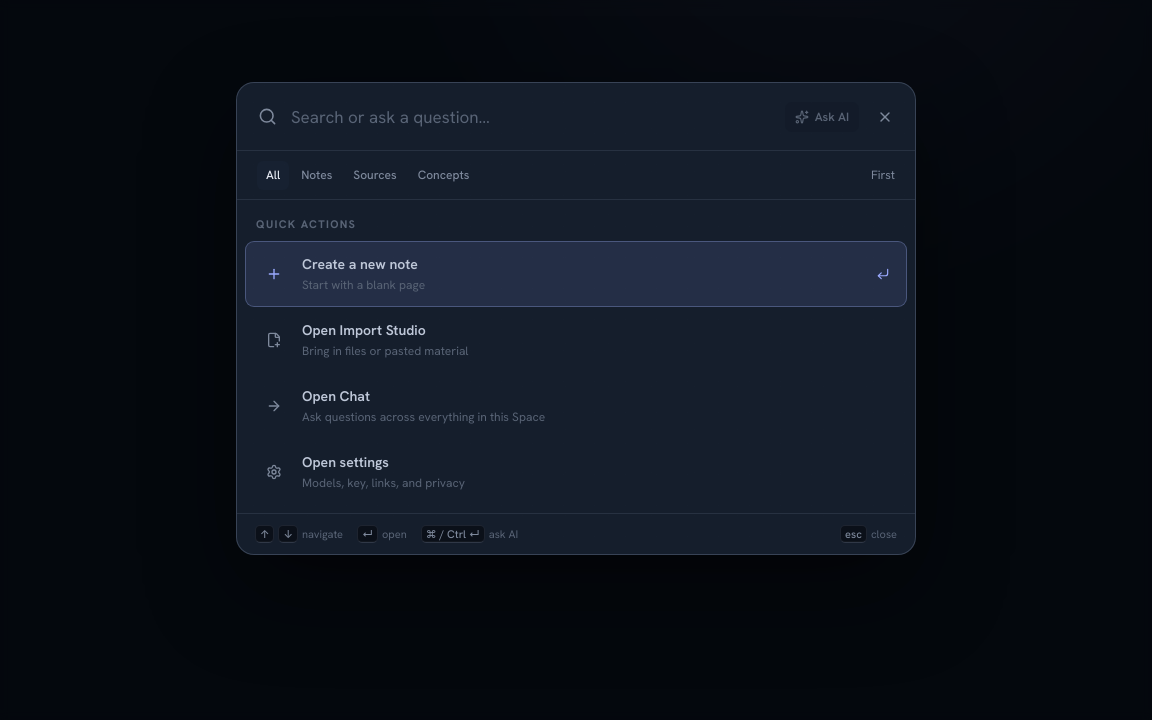
CommandPalette search › cancels when the Space changes and renders a current answer without saving Chat
Step 1. Type "quartz" into the dropdown → (531, 116), box [289, 104, 773, 128]
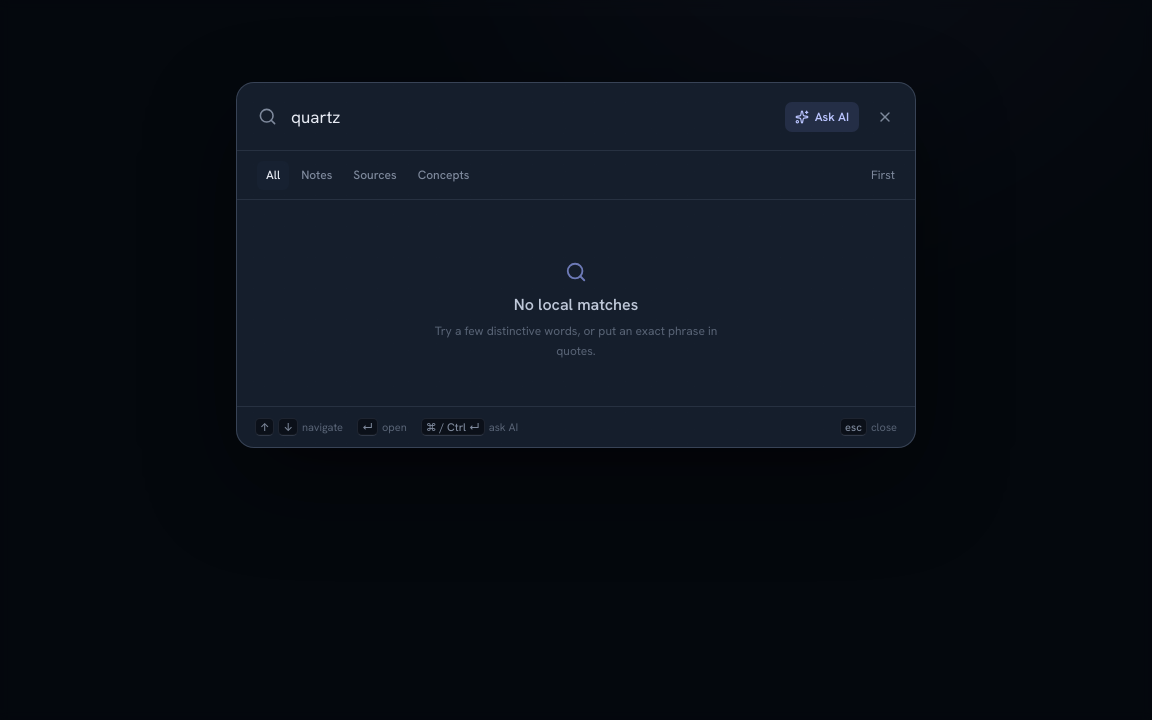
Step 2. Press Enter in the dropdown, box [289, 104, 773, 128]
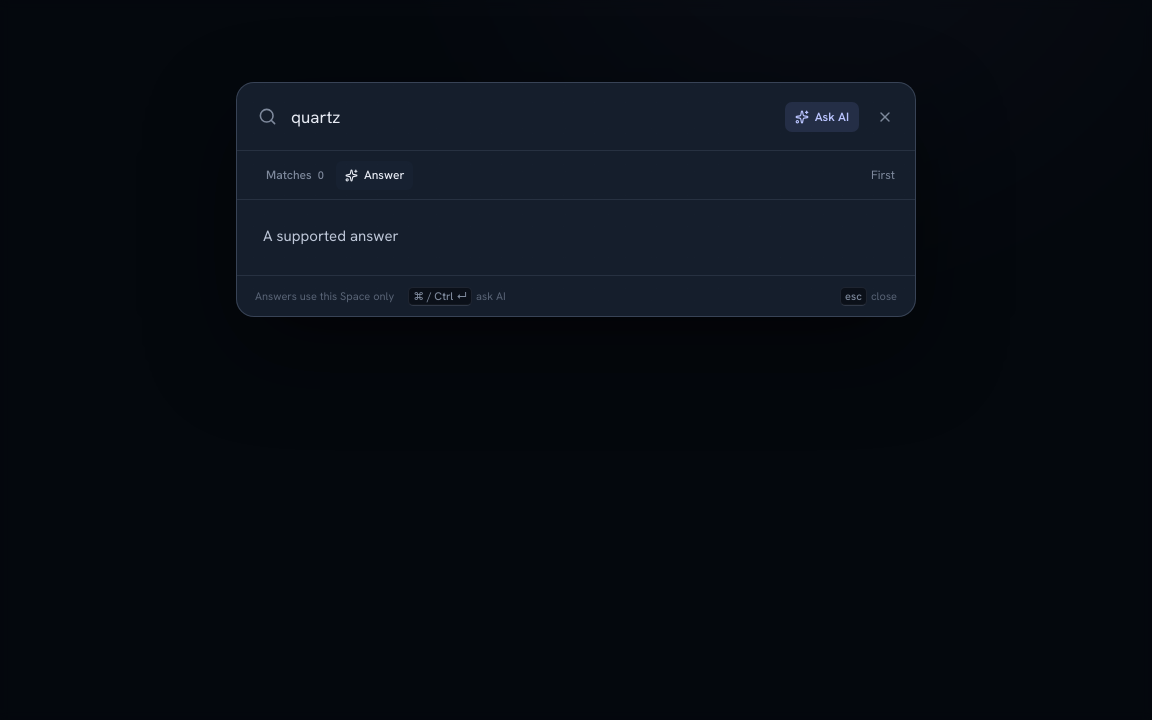
Now the text "A supported answer" is shown, box [263, 226, 399, 246]
